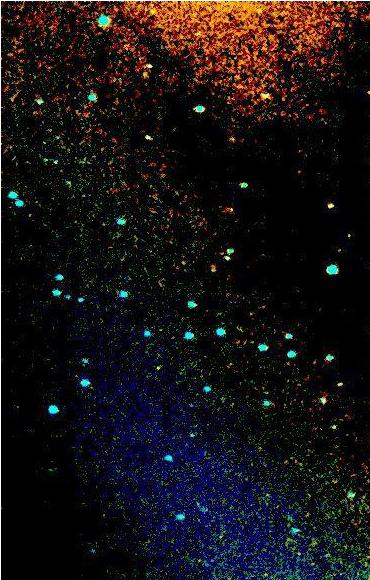star: (142, 352, 172, 382)
